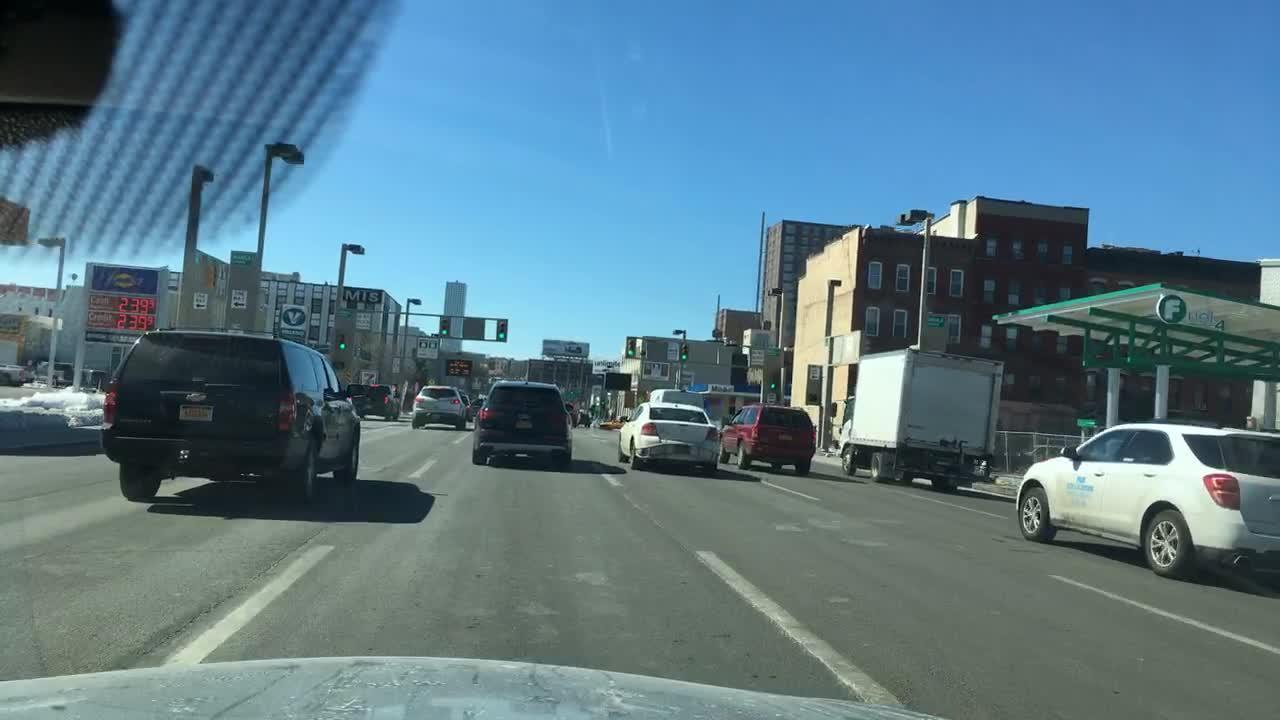chevrolet: (183, 390, 211, 404)
